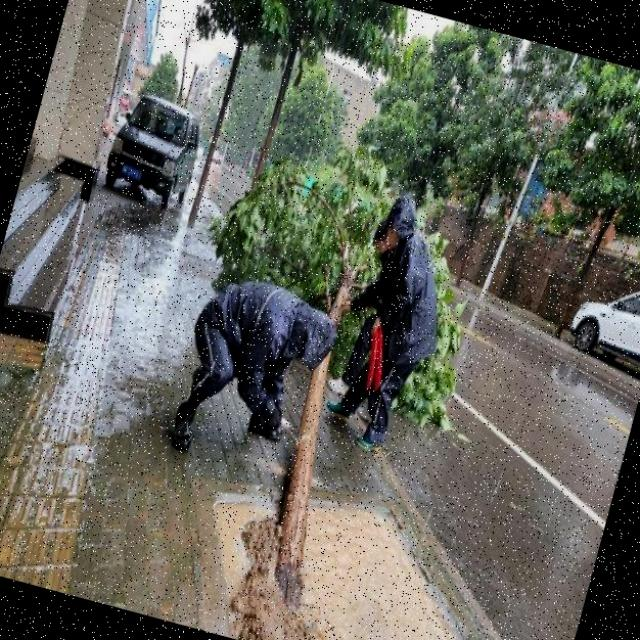fallen_object: (106, 110, 514, 640)
